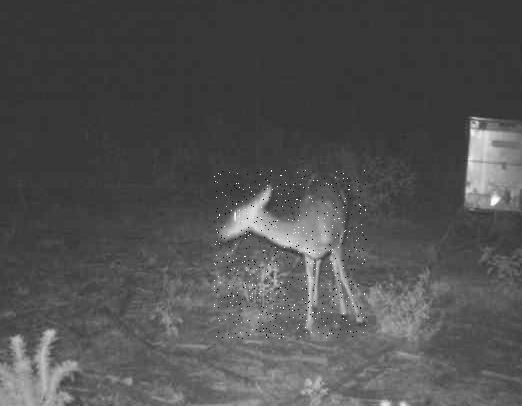Deer: (213, 171, 367, 340)
